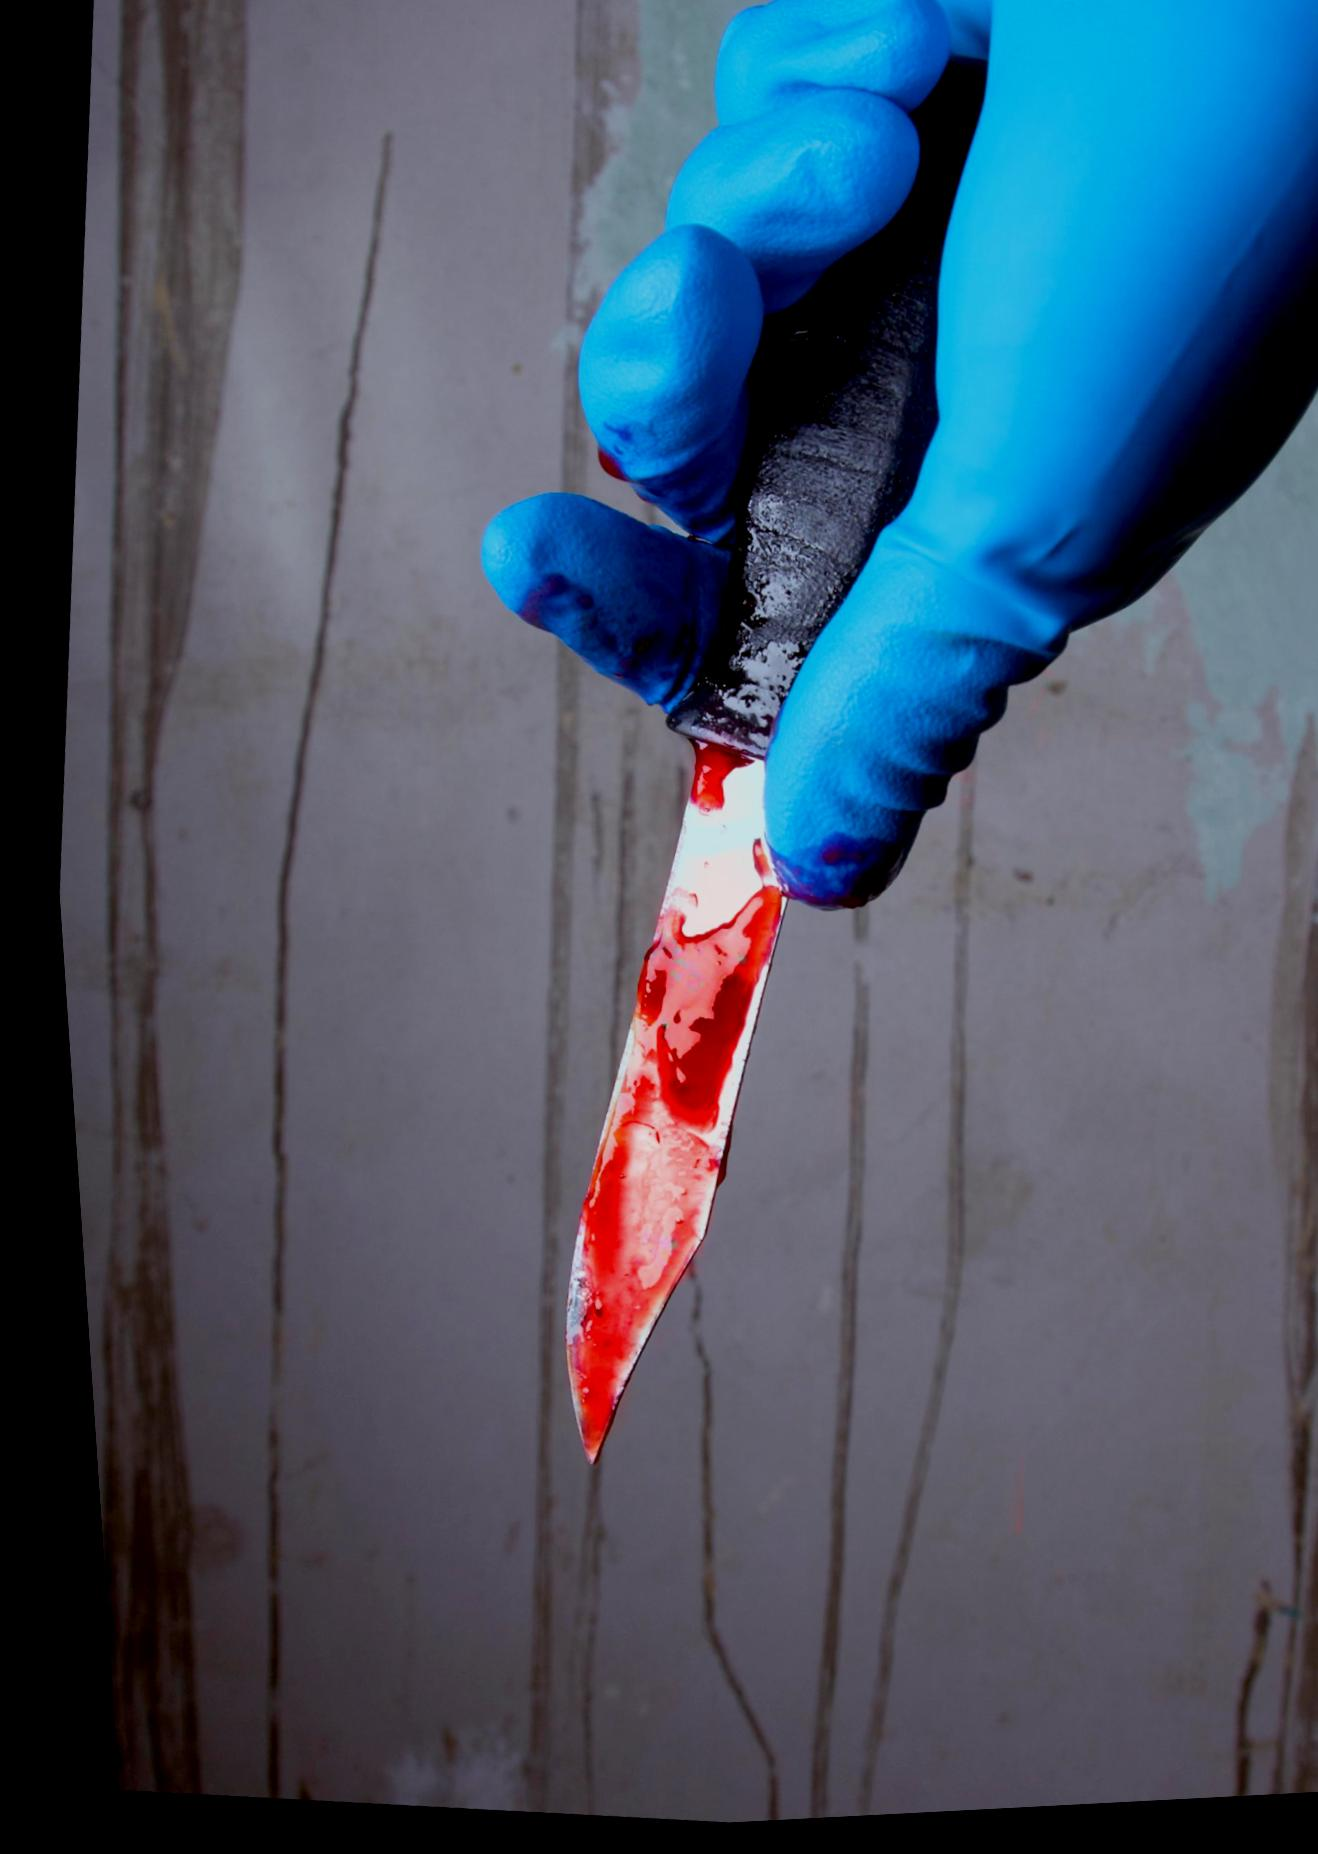Fire: (545, 740, 770, 1465)
